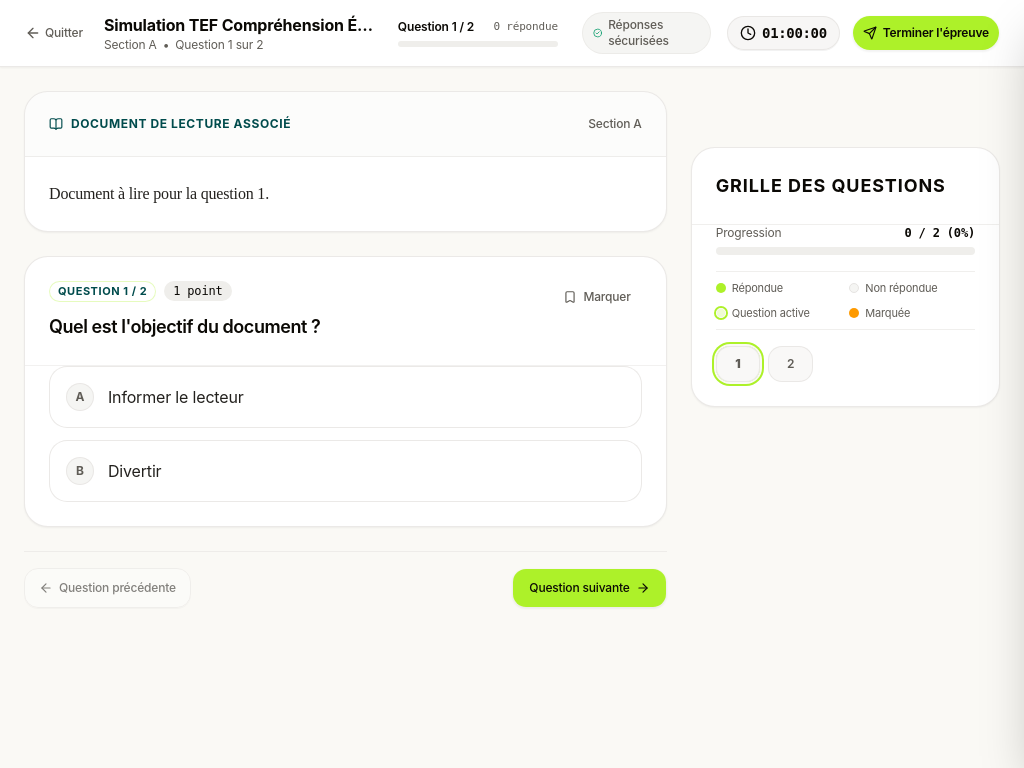
Test: Student Active Reading Assessment Experience (/attempts/:id) › 10. AssessmentTakingPage: orchestrates full reading session, flagging, and navigation
This screenshot has width=1024, height=768.
expect the heading "Simulation TEF Compréhension Écrite B2" is shown: met, box [104,13,382,37]
expect the text "Document à lire pour la question 1." is shown: met, box [49,185,269,202]
# Select option
What coordinates should you click on to do the following:
click the text "Informer le lecteur"
I would click on:
 (176, 397)
Its box is [108,387,244,407].
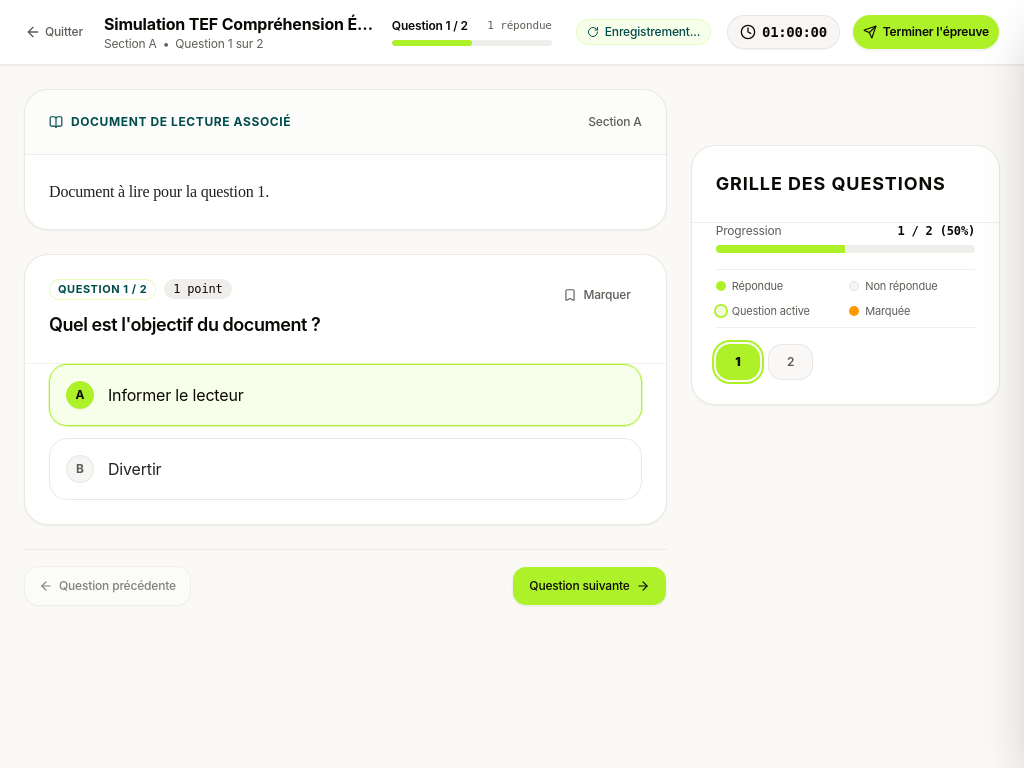
# Flag question
What coordinates should you click on to do the following:
click the button with aria-label "Marquer pour relecture"
I would click on:
 (597, 295)
Its box is [552,279,642,311].
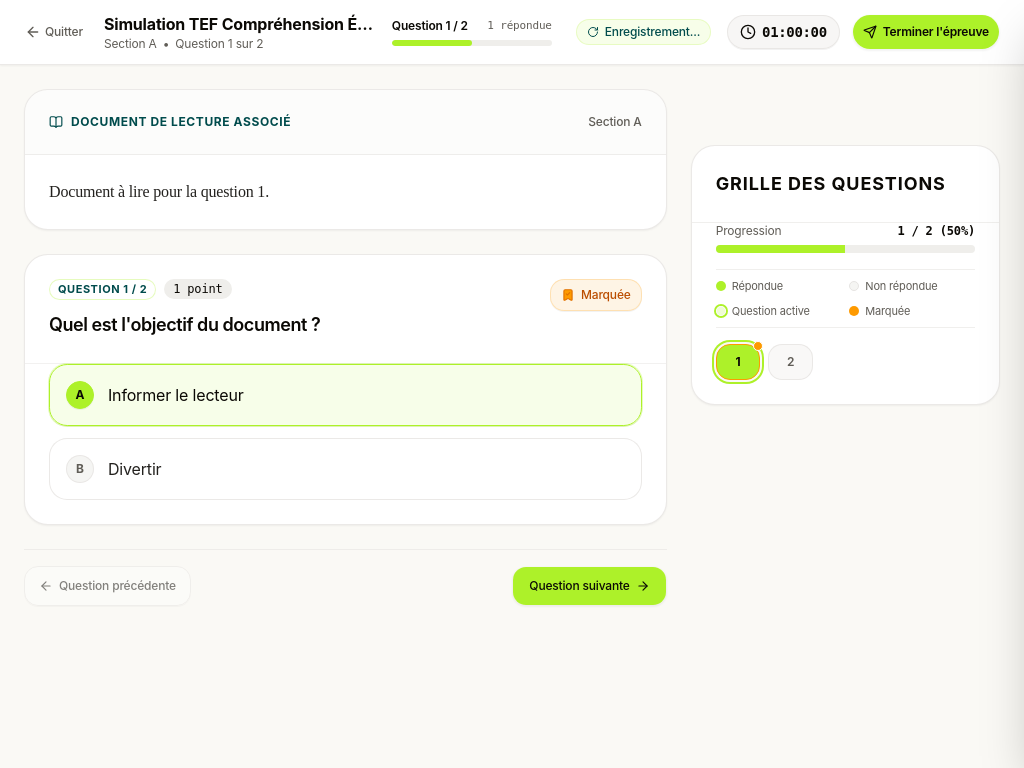
expect the button with aria-label "Question marquée pour relecture" is shown: met, box [550,279,642,311]
# Next question
What coordinates should you click on to do the following:
click the button "Question suivante"
I would click on:
 (589, 586)
Its box is [512,566,667,606].
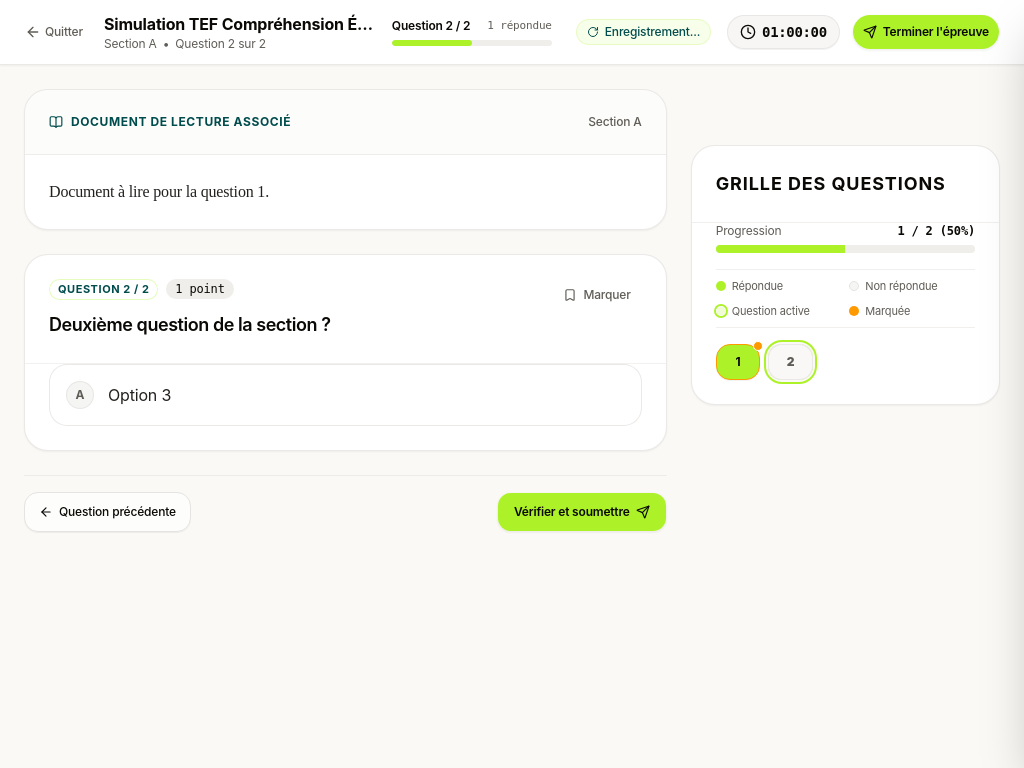
expect the heading "Deuxième question de la section ?" is shown: met, box [49,314,330,334]
# Previous question
What coordinates should you click on to do the following:
click the button "Question précédente"
I would click on:
 (107, 512)
Its box is [24,492,191,532].
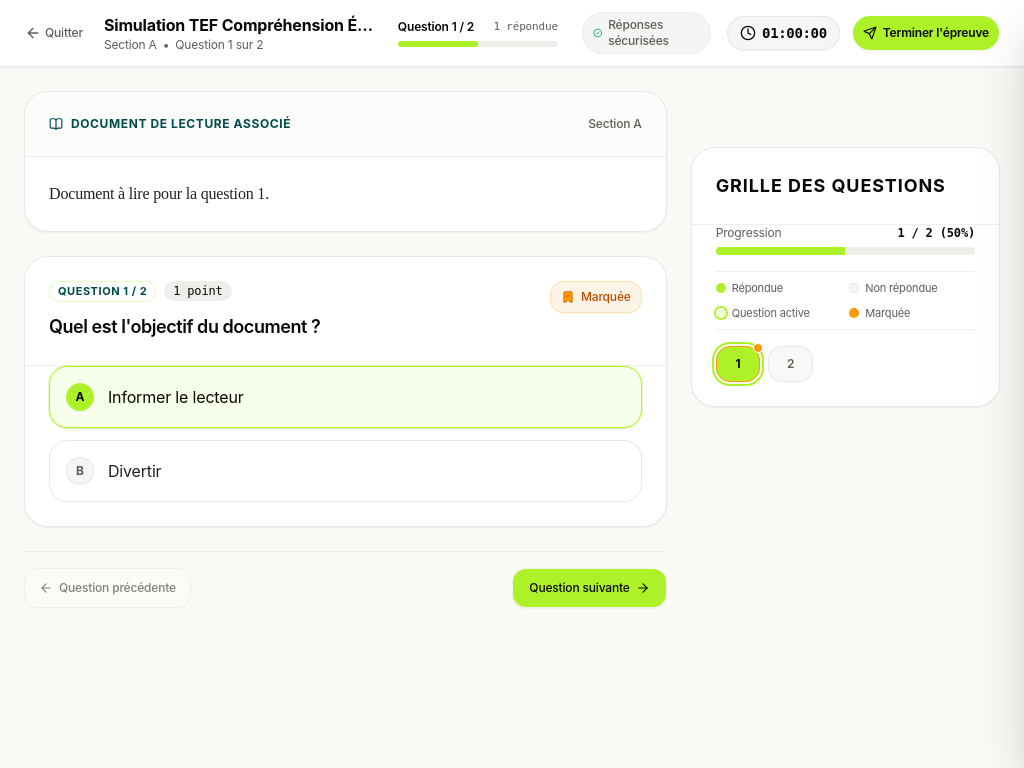
expect the heading "Quel est l'objectif du document ?" is shown: met, box [49,316,320,336]
